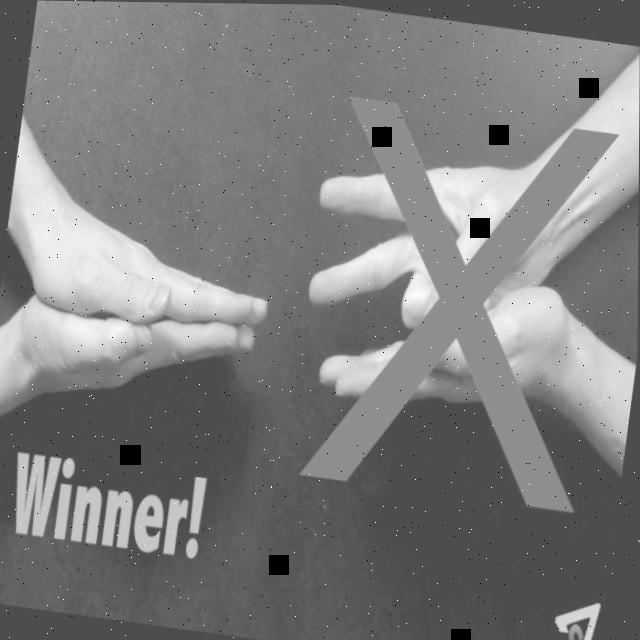Paper: (29, 201, 277, 335)
Scissors: (306, 138, 569, 344)
